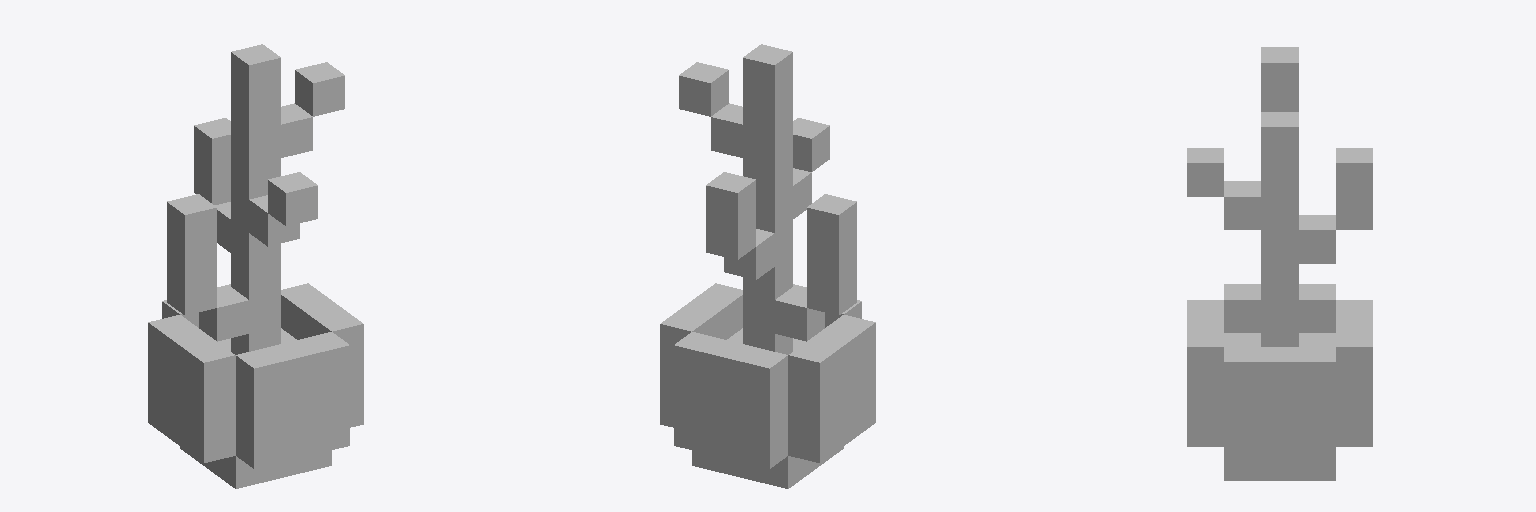
File: obj_plant_cactus.obj
3 renders of one model, left to right at view 1: azimuth 30°, elevation 25°; view 2: azimuth 150°, elevation 25°; view 3: azimuth 270°, elevation 25°, orthographic.
Parts seen in each view (by area): view 1: obj_plant_cactus; view 2: obj_plant_cactus; view 3: obj_plant_cactus.
Part boxes in pixels (left/top/right/bottom): obj_plant_cactus: left=148, top=44, right=363, bottom=488; obj_plant_cactus: left=660, top=44, right=875, bottom=488; obj_plant_cactus: left=1187, top=47, right=1372, bottom=480.
Size of the model in its own units: 5 by 12 by 5.